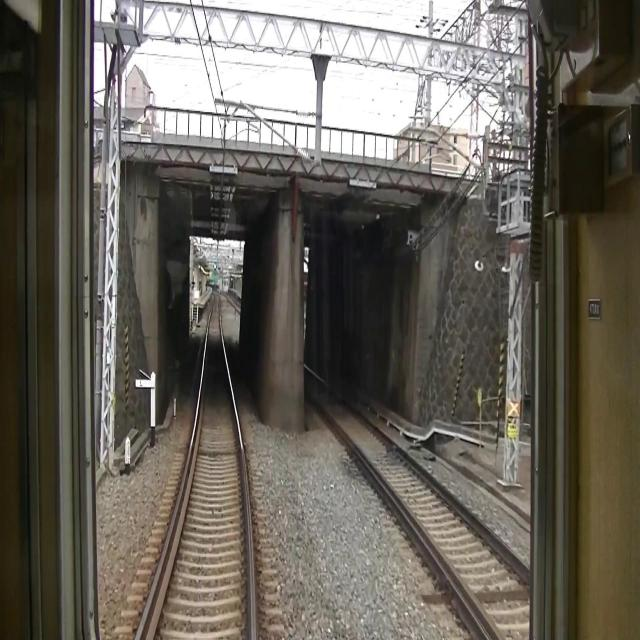rail-track: (304, 368, 527, 639)
